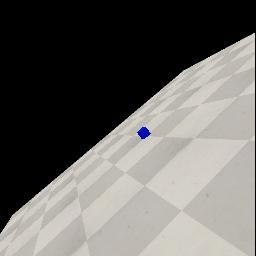box: (137, 127, 151, 139)
